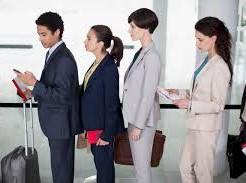Bad: (123, 8, 233, 183), (28, 11, 124, 183), (81, 8, 162, 183)
